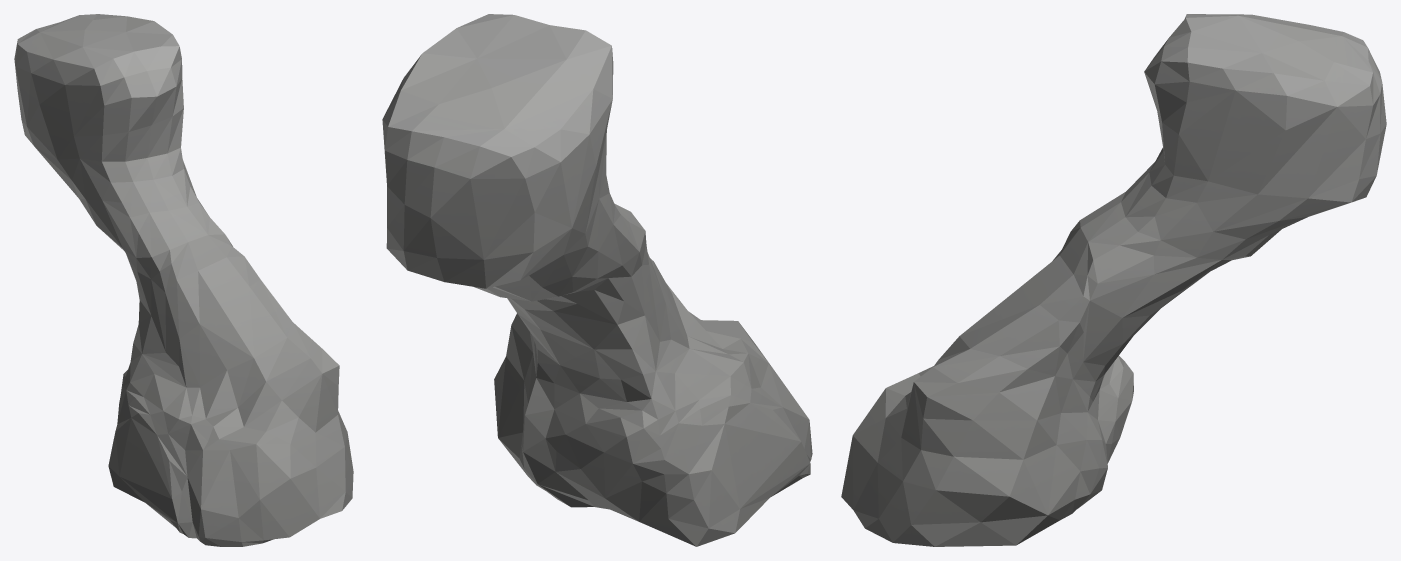
Rendered from Cavern_Pillar-06.fbx.
3 views of the same model, side by side, from view 1: azimuth 30°, elevation 25°; view 2: azimuth 150°, elevation 25°; view 3: azimuth 270°, elevation 25° (orthographic). The views are drawn at different scales.
Visible parts, largest first — view 1: Cavern_Pillar-06; view 2: Cavern_Pillar-06; view 3: Cavern_Pillar-06.
Part boxes in pixels (bbox=[...]): Cavern_Pillar-06: bbox=[14, 14, 353, 546]; Cavern_Pillar-06: bbox=[382, 14, 812, 546]; Cavern_Pillar-06: bbox=[841, 14, 1386, 546].
Bounding box in the file's own units: 655 × 1286 × 1359.
Materials: 1 (1 with a texture image).
